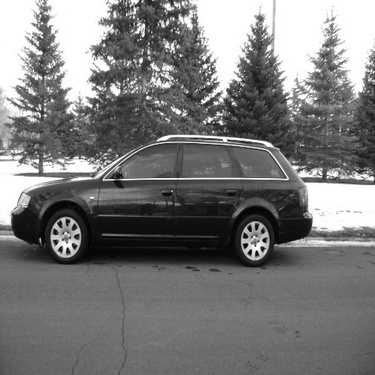car: (5, 129, 318, 267)
